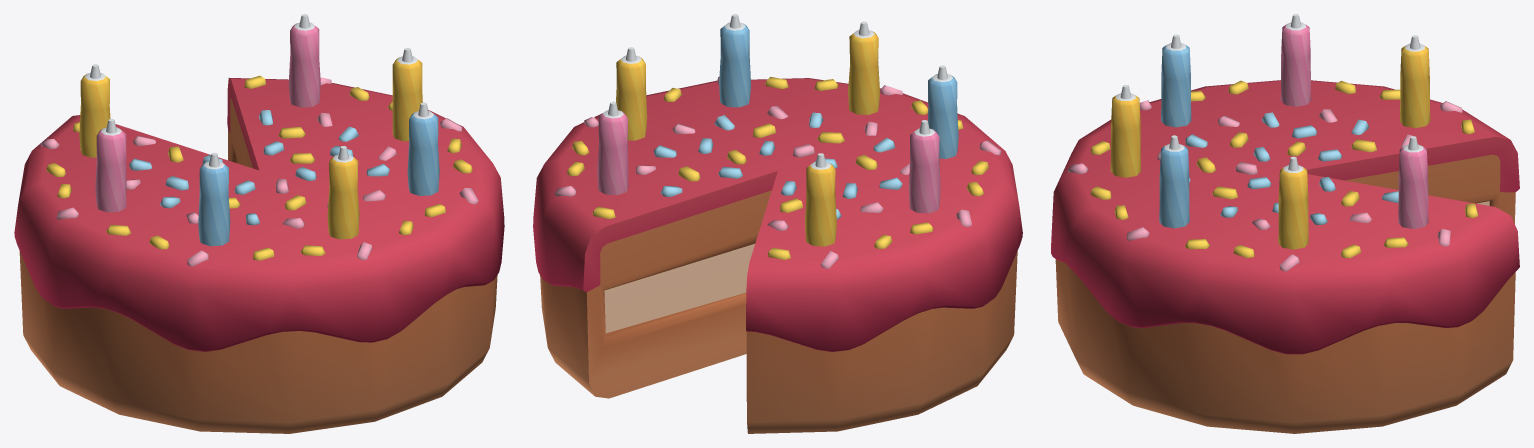
The model's file is cake_birthday_cut.obj.
The picture shows the model from 3 angles, left to right: view 1: azimuth 30°, elevation 25°; view 2: azimuth 150°, elevation 25°; view 3: azimuth 270°, elevation 25°; orthographic projection.
Parts seen in each view (by area): view 1: cake_birthday_cut; view 2: cake_birthday_cut; view 3: cake_birthday_cut.
Part boxes in pixels (box(x1,y1,x2,y2)): cake_birthday_cut: box(14, 14, 504, 433); cake_birthday_cut: box(533, 14, 1022, 433); cake_birthday_cut: box(1051, 14, 1519, 433).
Bounding box in the file's own units: 1.22 × 0.7096 × 1.17.
1 material, 1 textured.
